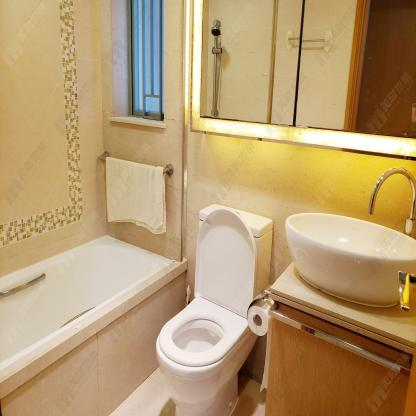Bathtub: (0, 233, 187, 416)
Faucet: (370, 162, 416, 224)
Toilet: (156, 203, 273, 416)
Toilet Sink: (284, 210, 416, 304)
